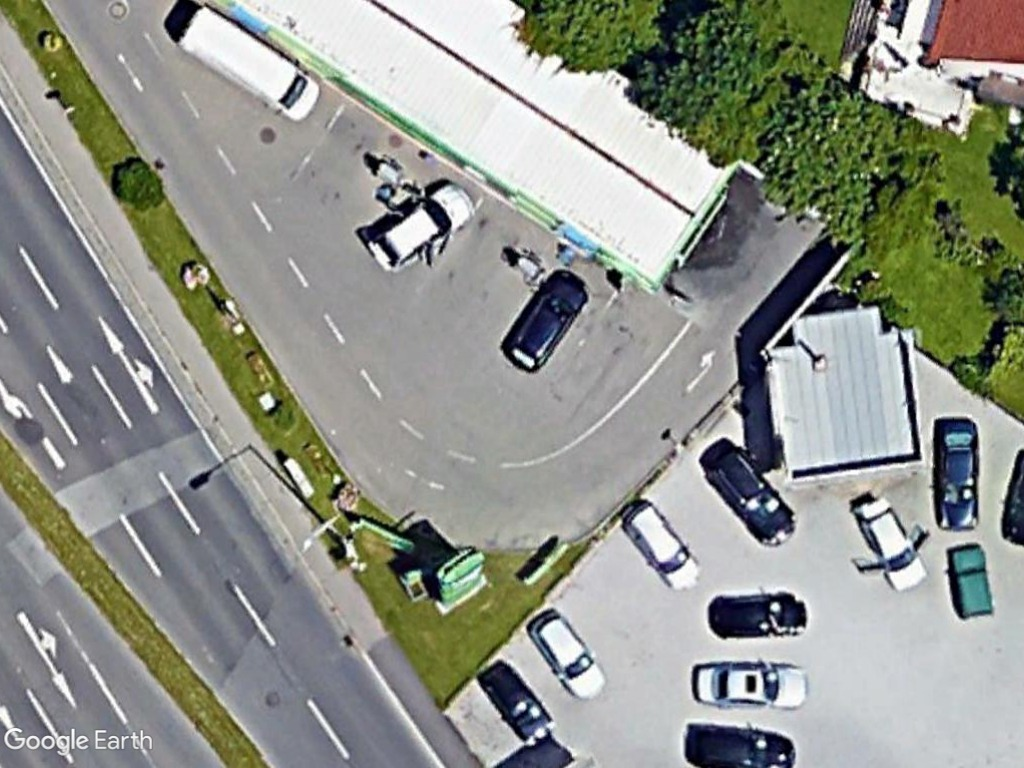car: (368, 179, 482, 275), (707, 440, 804, 550), (498, 267, 591, 375), (518, 604, 609, 705), (617, 497, 705, 592), (853, 492, 931, 598), (689, 655, 818, 713), (479, 662, 559, 749), (931, 413, 988, 535), (701, 592, 815, 642), (686, 722, 803, 768)
van: (170, 0, 324, 129)
